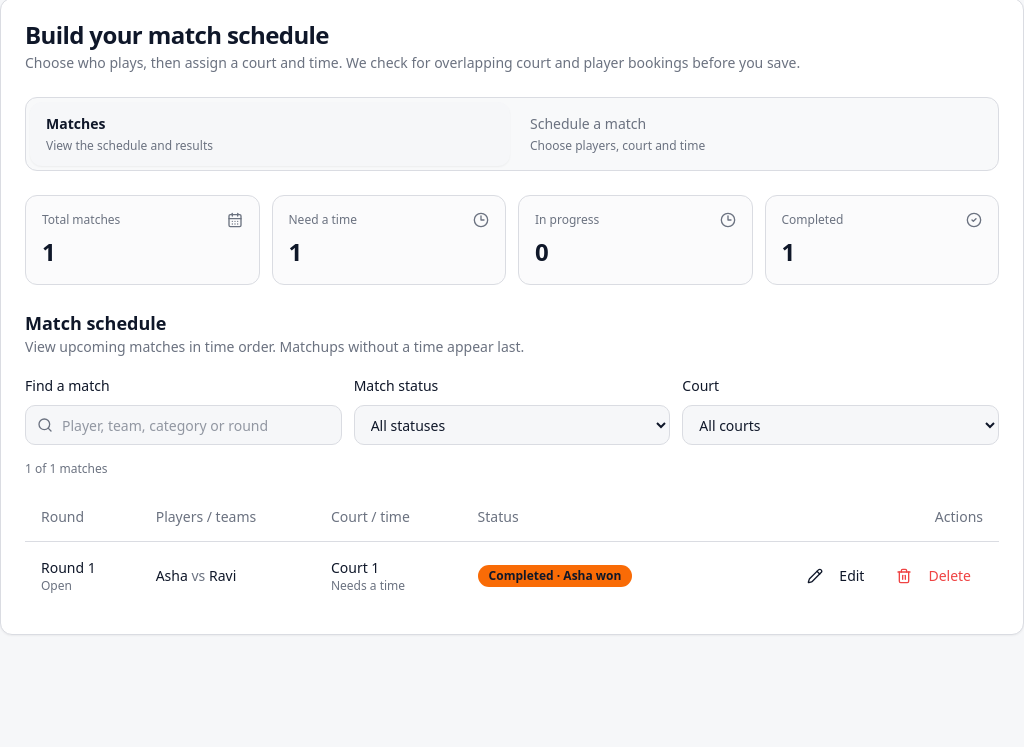
Test: match scheduling usability › blocks an earlier loser in Round 3 for singles entries
The image size is (1024, 747).
Click the tab "Schedule a match Choose players, court and time".
click(588, 124)  # box [514, 102, 994, 166]
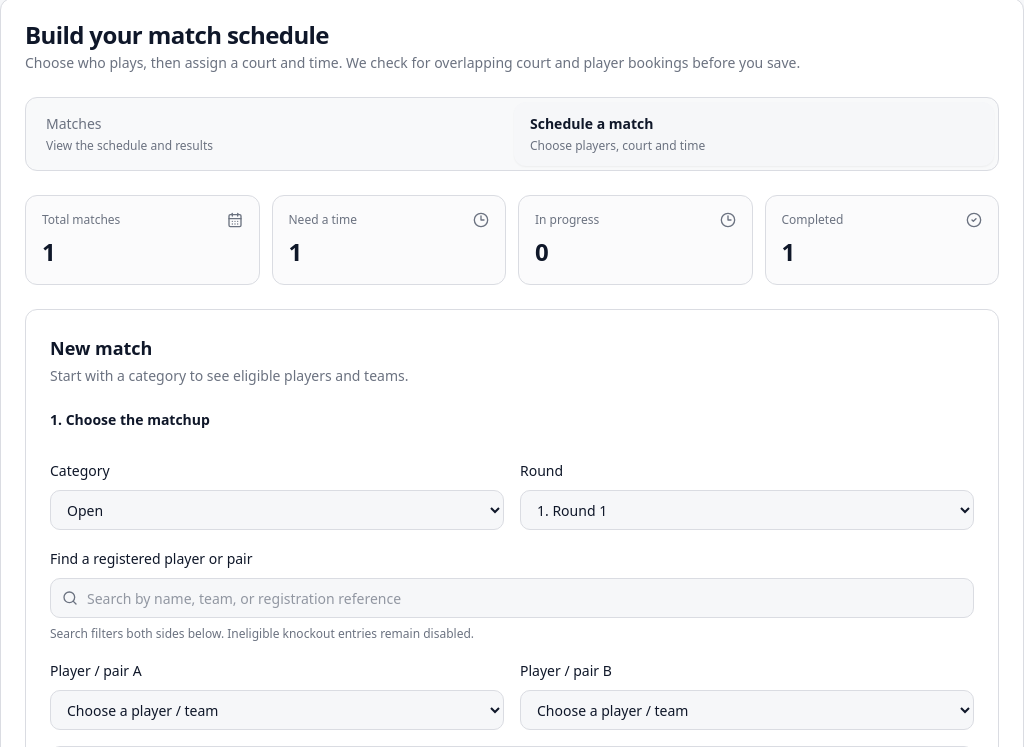
Select "3. Round 3" in the dropdown labelled "Round" at (747, 510), box [520, 490, 974, 530]
(page scrolled)
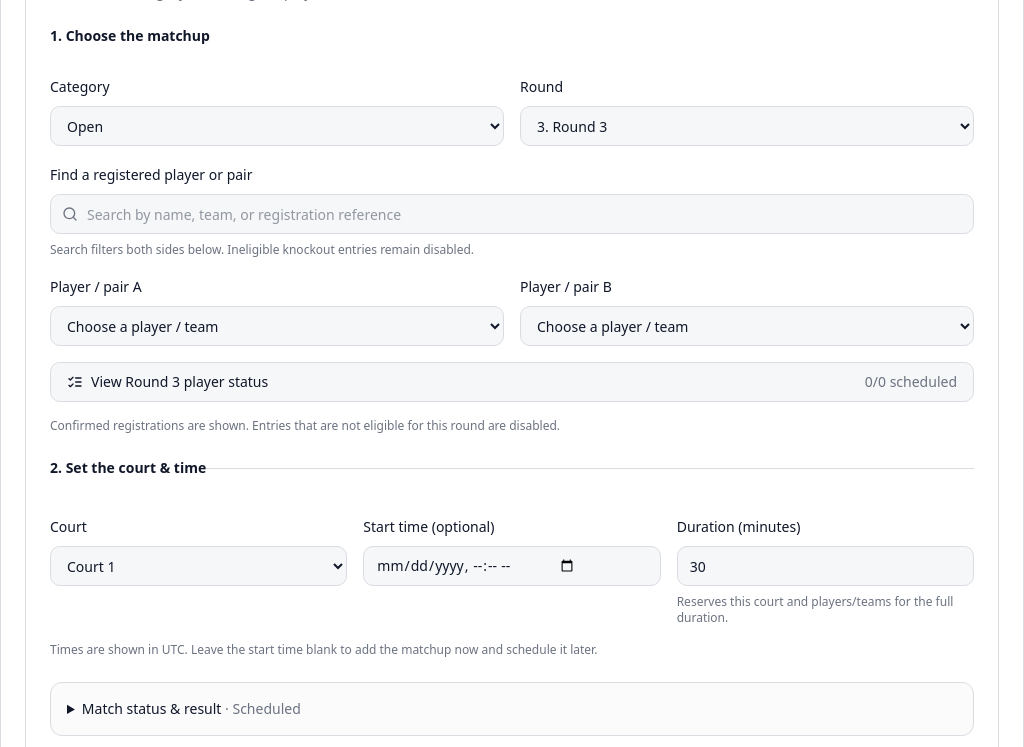
Click the button "View Round 3 player status 0/0 scheduled".
click(108, 382)  # box [50, 362, 974, 402]
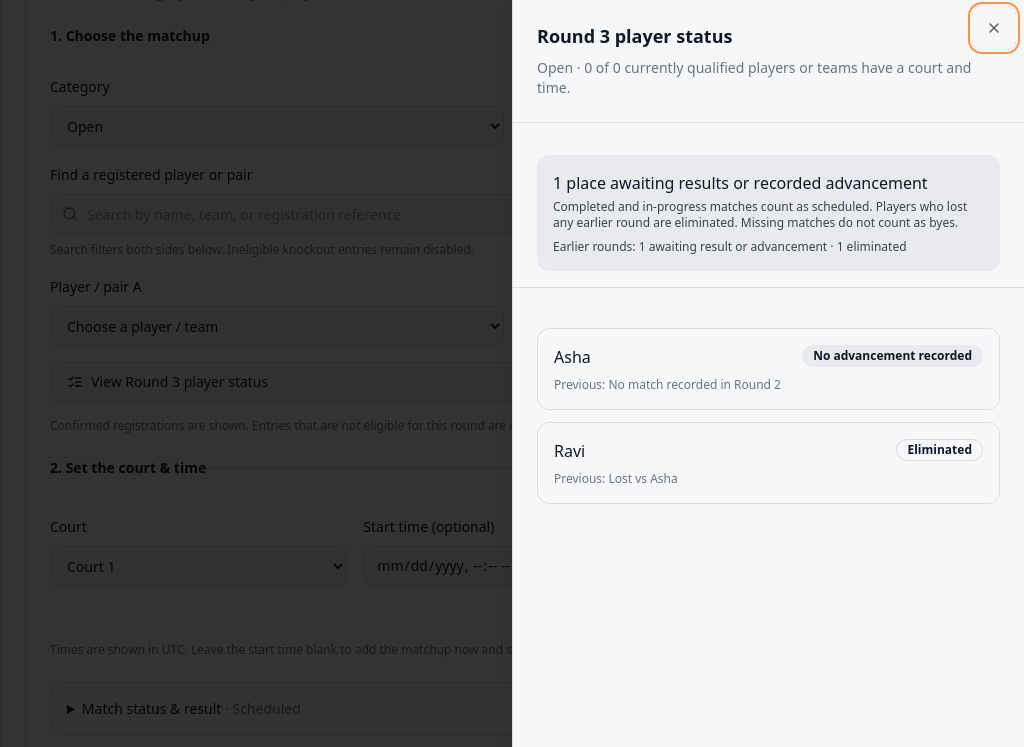
Now the text "Eliminated" is shown, box [896, 439, 983, 461]
